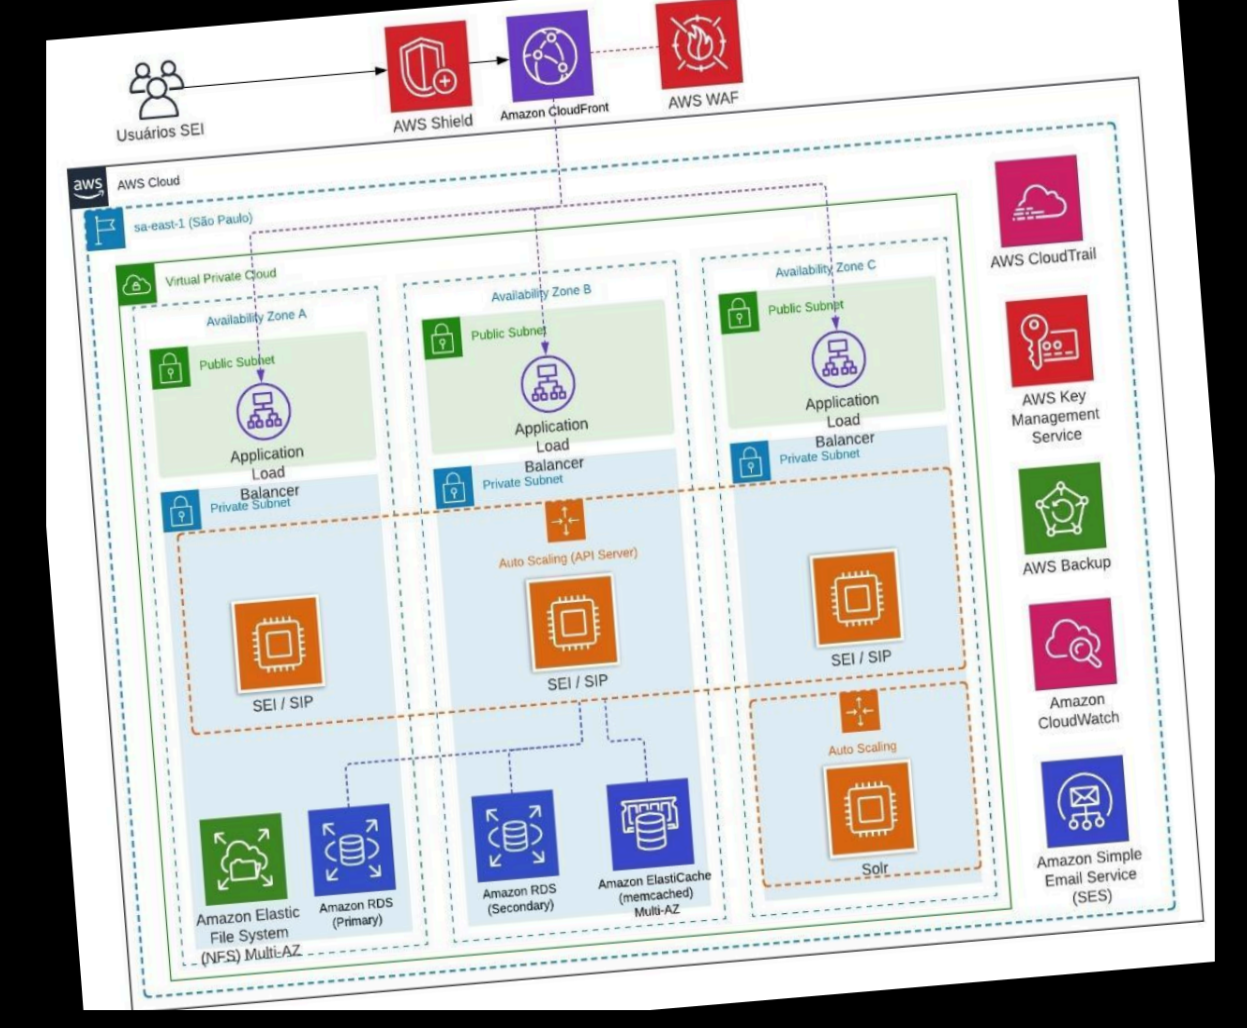aws_application_load_balancer: (513, 350, 578, 415), (805, 325, 870, 390), (229, 378, 295, 442)
aws_autoscaling: (544, 498, 584, 541), (839, 688, 878, 731)
aws_backup: (1018, 460, 1104, 553)
aws_cloud: (63, 164, 107, 205)
aws_cloud_trail: (994, 152, 1080, 245)
aws_cloudfront: (503, 7, 593, 102)
aws_cloudwatch: (1029, 600, 1114, 691)
aws_elactic_file_system(nfs)_multi-az: (200, 812, 286, 906)
aws_elasticache: (604, 780, 693, 872)
aws_key_management_service: (1003, 293, 1093, 388)
aws_private_subnet: (728, 439, 769, 486), (433, 464, 474, 507), (160, 488, 200, 531)
aws_public_subnet: (381, 16, 471, 114), (147, 344, 190, 390), (421, 315, 461, 360), (718, 290, 756, 333)
aws_rds: (309, 803, 395, 892), (472, 789, 557, 878)
aws_region: (82, 205, 126, 249)
aws_simple_email_service: (1040, 754, 1129, 849)
aws_virtual_private_cloud: (115, 262, 157, 306)
aws_waf: (648, 0, 744, 92)
sei/sip: (809, 546, 900, 645), (525, 571, 617, 669), (231, 593, 323, 691)
solr: (825, 759, 912, 851)
user: (118, 53, 192, 122)
